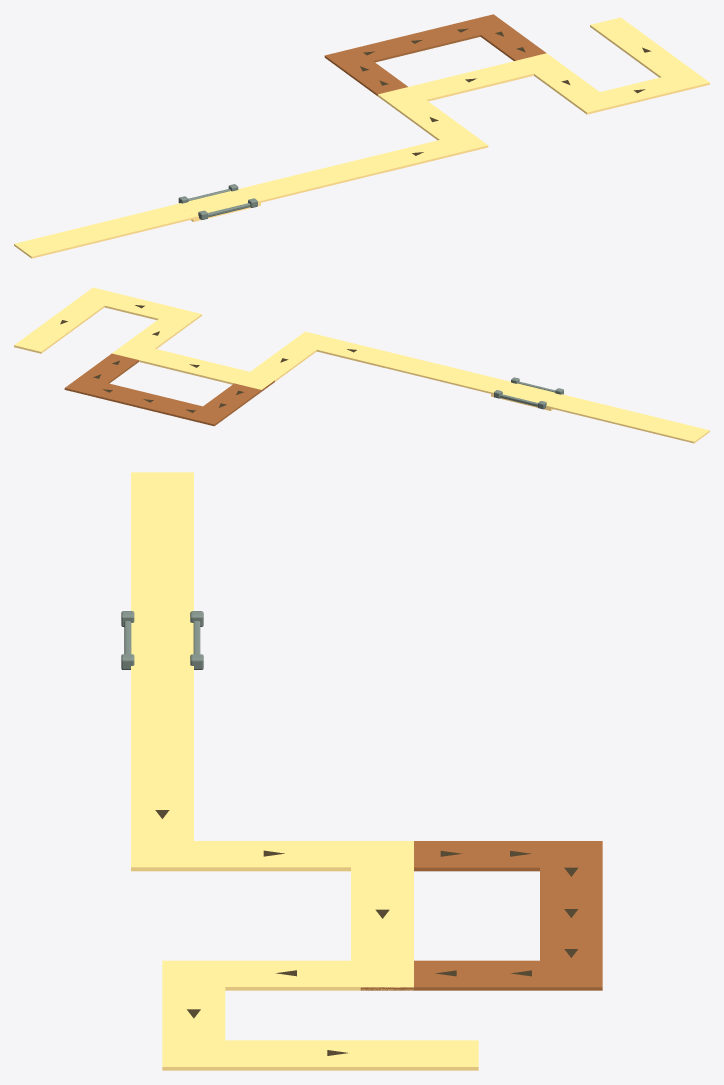
Rendered from Nivel_01_Mohan_Movil_Gameplay.fbx.
3 renders of one model, top to bottom at view 1: azimuth 30°, elevation 25°; view 2: azimuth 150°, elevation 25°; view 3: azimuth 270°, elevation 25°, orthographic. The views are drawn at different scales.
Visible parts, largest first — view 1: L01_Path_A_GP, L01_Path_Extension_W_GP, L01_Detour_Path_v02_GP, L01_Bridge_00_Deck_v02_GP; view 2: L01_Path_A_GP, L01_Detour_Path_v02_GP, L01_Path_Extension_W_GP, L01_Bridge_00_Deck_v02_GP; view 3: L01_Path_A_GP, L01_Detour_Path_v02_GP, L01_Path_Extension_W_GP, L01_Bridge_00_Deck_v02_GP.
Boxes of the visible parts, <box> form: L01_Path_A_GP: <box>363,17,709,173</box>; L01_Path_Extension_W_GP: <box>14,158,380,258</box>; L01_Detour_Path_v02_GP: <box>324,14,546,95</box>; L01_Bridge_00_Deck_v02_GP: <box>176,188,260,221</box>; L01_Path_A_GP: <box>14,287,399,389</box>; L01_Detour_Path_v02_GP: <box>64,353,274,426</box>; L01_Path_Extension_W_GP: <box>384,355,709,443</box>; L01_Bridge_00_Deck_v02_GP: <box>491,381,566,410</box>; L01_Path_A_GP: <box>131,774,478,1070</box>; L01_Detour_Path_v02_GP: <box>360,841,602,990</box>; L01_Path_Extension_W_GP: <box>131,472,193,774</box>; L01_Bridge_00_Deck_v02_GP: <box>131,612,193,670</box>.
Size of the model in its own units: 44.72 by 0.53 by 15.31.
